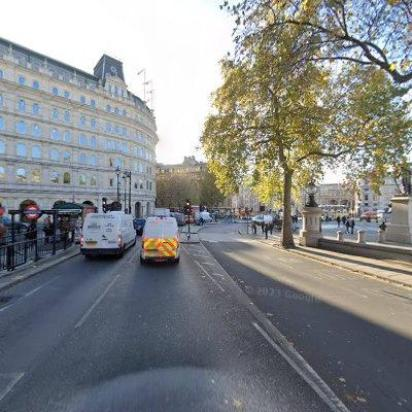moving-light-truck: (80, 211, 140, 257), (142, 214, 180, 268), (194, 210, 215, 224)
